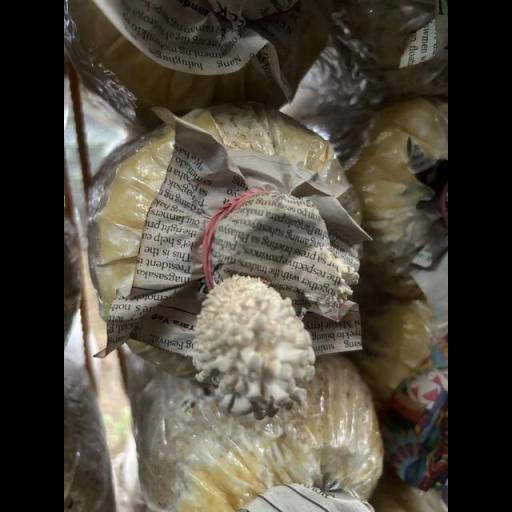White Oyster Mushroom: (175, 250, 322, 431)
